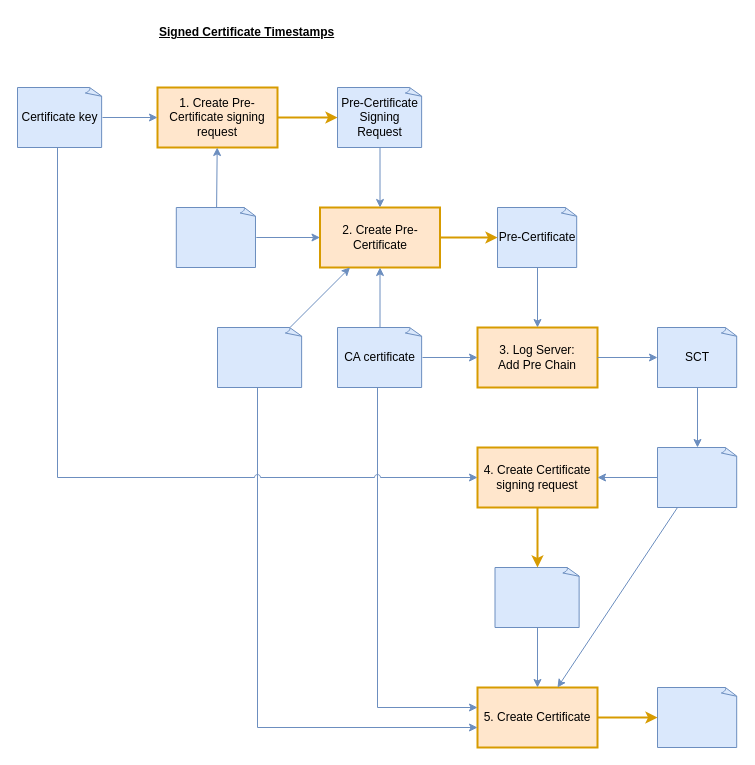
Some shapes in this 755 by 765 pixel diagram are drawn without their labels. The shapes that lost their labels are listed below. From the top down, each one's centre as x and y in pixels, then its label:
At [215,237]: "Pre-Certificate request template".
At [259,357]: "Issuer key".
At [697,477]: "Certificate request template".
At [537,597]: "Certificate Signing Request".
At [697,717]: "Certificate".
